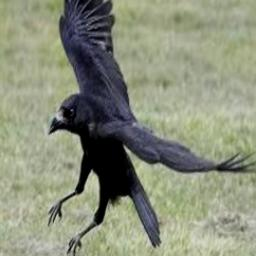Crow: (48, 0, 256, 255)
